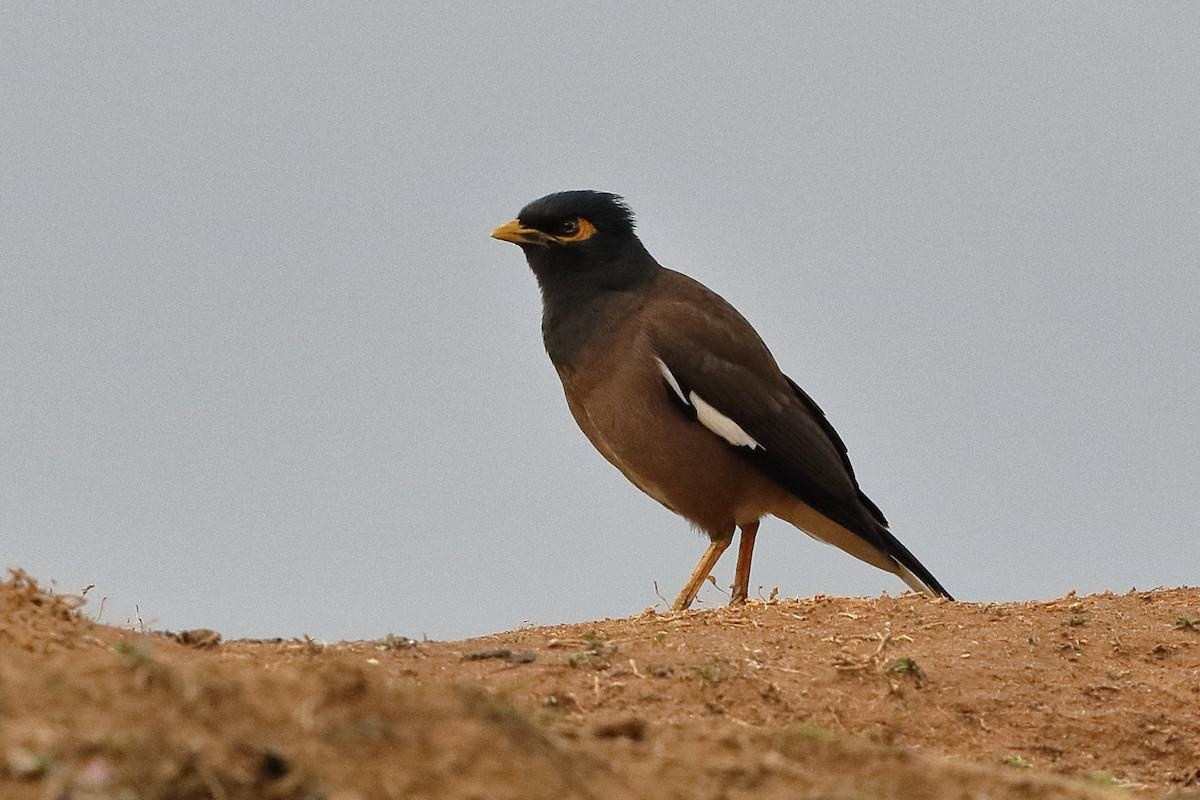myna: (497, 181, 950, 658)
